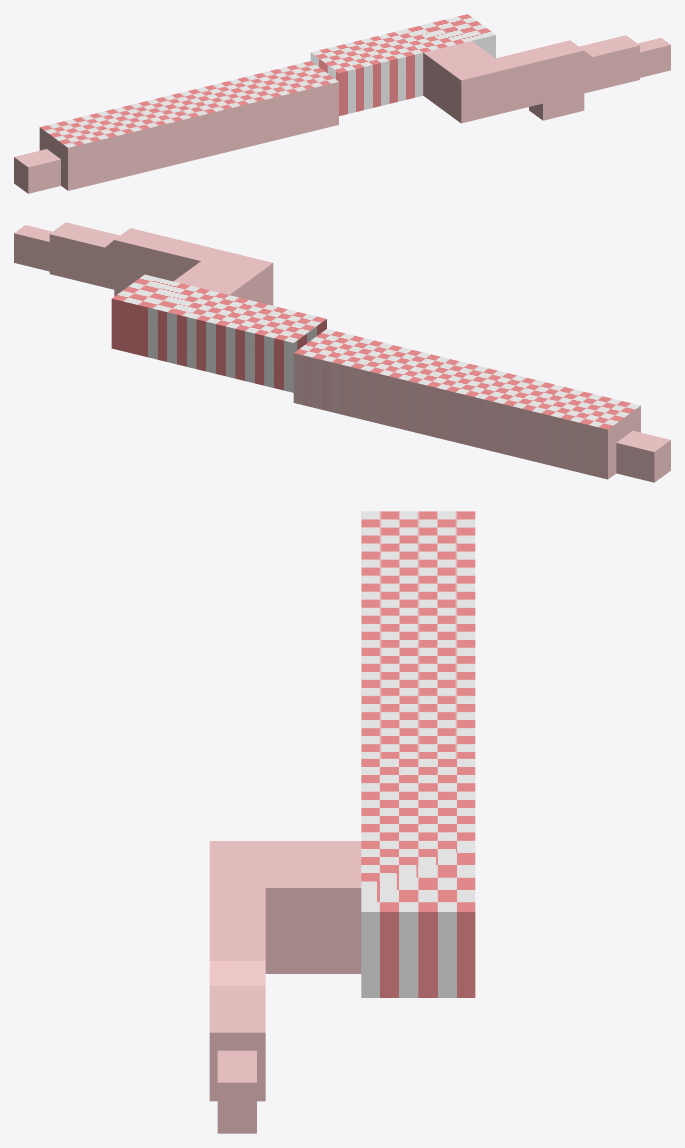
Rendered from Sewer_2.fbx.
The picture shows the model from 3 angles, top to bottom: view 1: azimuth 30°, elevation 25°; view 2: azimuth 150°, elevation 25°; view 3: azimuth 270°, elevation 25°; orthographic projection. The views are drawn at different scales.
Parts seen in each view (by area): view 1: Plane; view 2: Plane; view 3: Plane.
Boxes of the visible parts, x1,y1,x2,y2 form: Plane: (14,14,670,193); Plane: (14,222,670,482); Plane: (209,511,475,1133).
Size of the model in its own units: 7295 by 700 by 1400.
